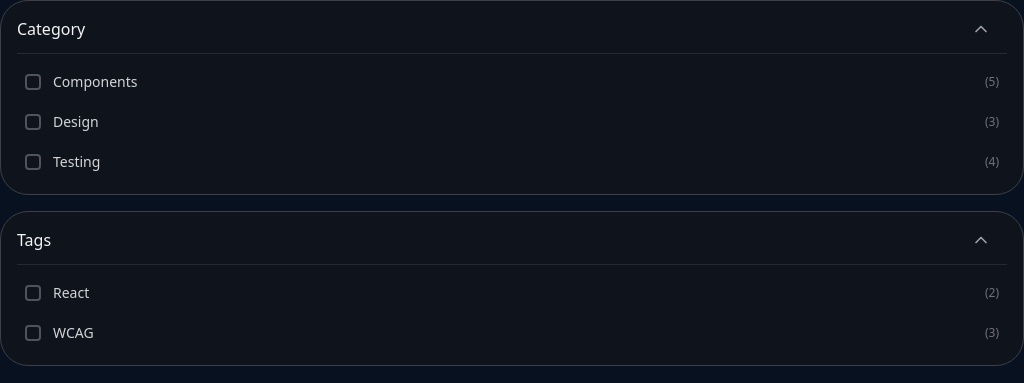
it: FilterSidebar › expands/collapses filter groups
Click the button "Category" at (51, 29), box x1=9 y1=13 x2=999 y2=45
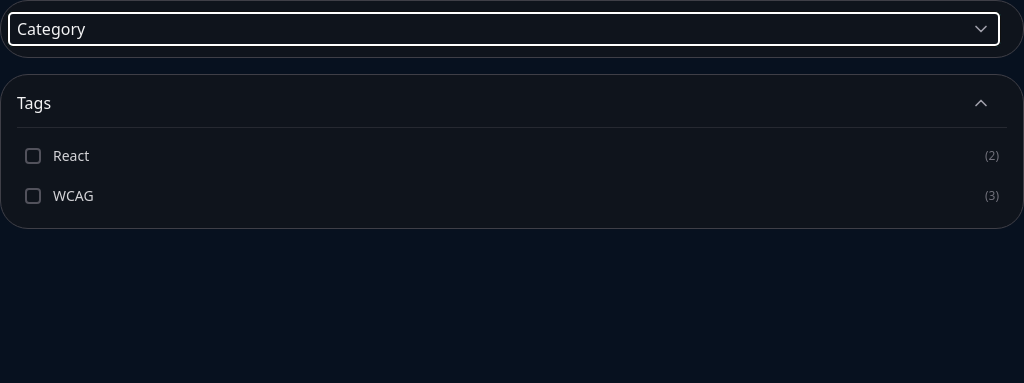
Check: the button "Category" is collapsed
Click the button "Category" at (51, 29), box x1=9 y1=13 x2=999 y2=45
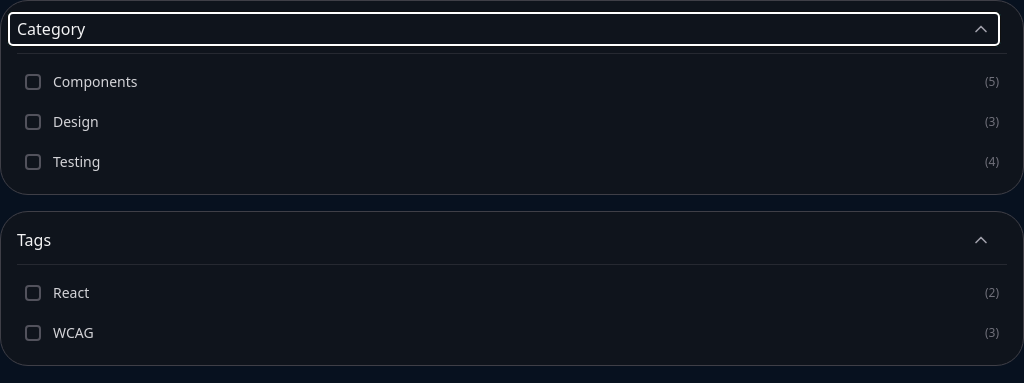
Check: the button "Category" is expanded, box x1=9 y1=13 x2=999 y2=45
